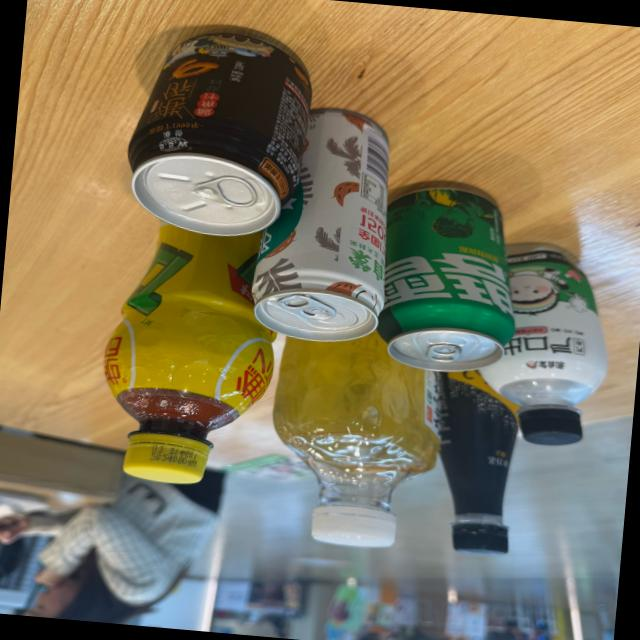bottle: (87, 225, 289, 491), (257, 337, 450, 556), (450, 242, 614, 452), (412, 373, 524, 560)
can: (114, 18, 323, 245), (243, 101, 403, 348), (375, 176, 528, 380)
